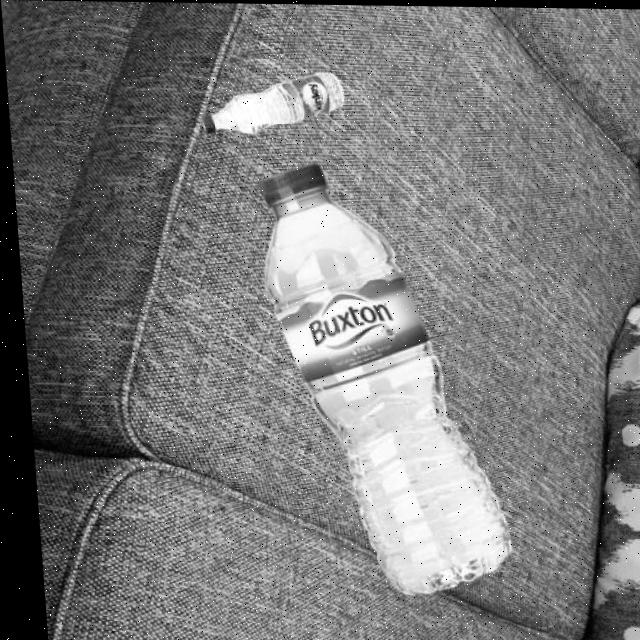bottle: (249, 159, 508, 596), (194, 67, 347, 135)
